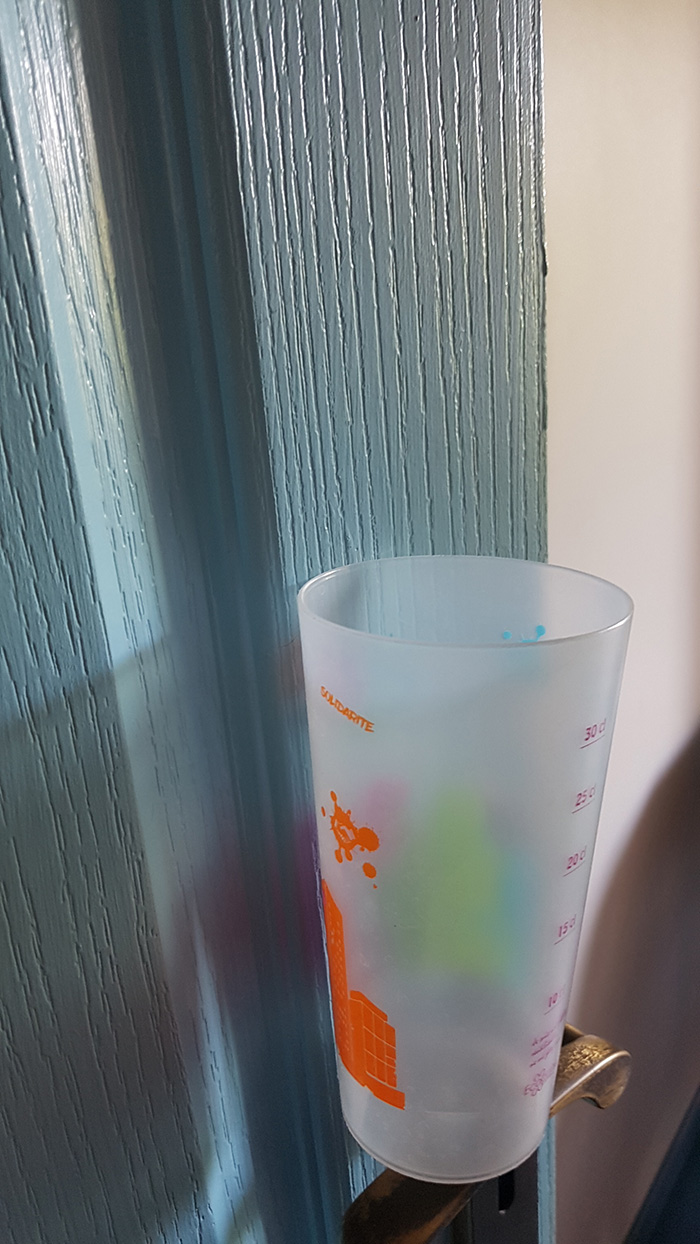ecocup: (296, 554, 633, 1187)
